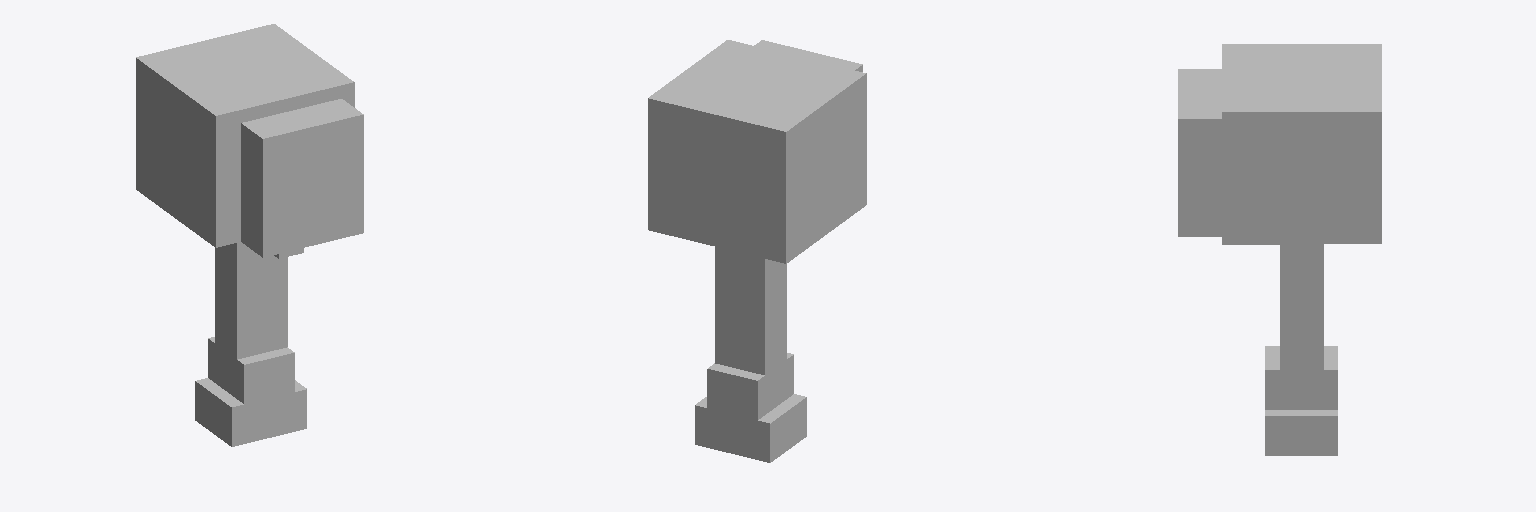
The model's file is Tree-0.obj.
The picture shows the model from 3 angles: view 1: azimuth 30°, elevation 25°; view 2: azimuth 150°, elevation 25°; view 3: azimuth 270°, elevation 25°; orthographic projection.
Visible parts, largest first — view 1: object 1; view 2: object 1; view 3: object 1.
Part boxes in pixels (x1,y1,x2,y2): object 1: (136,24,363,446); object 1: (648,40,866,462); object 1: (1178,44,1381,455).
Bounding box in the file's own units: 1.1 × 2.7 × 1.4.